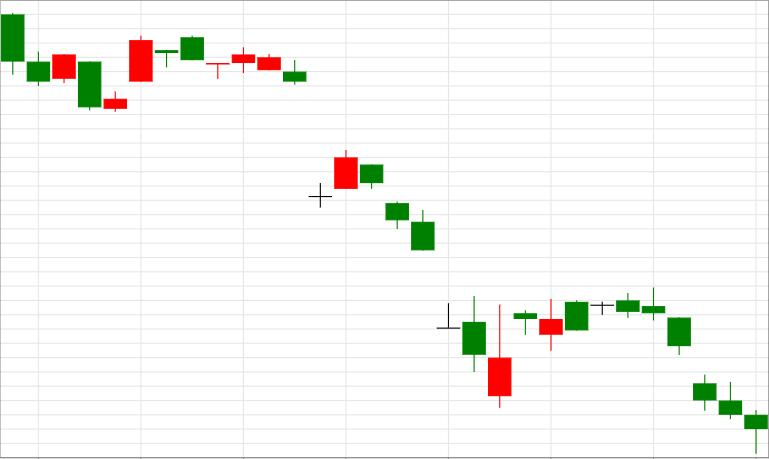inverse_hammer_rise: (360, 164, 511, 409)
